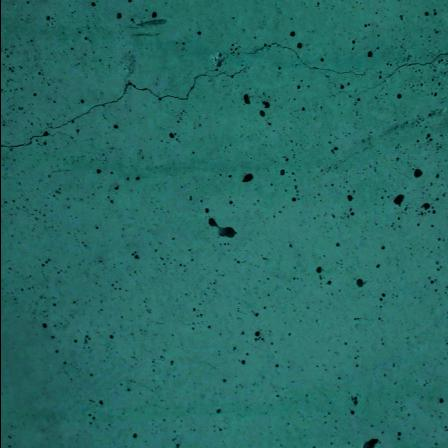crack: (32, 25, 368, 133), (319, 43, 448, 112), (0, 128, 79, 150)
